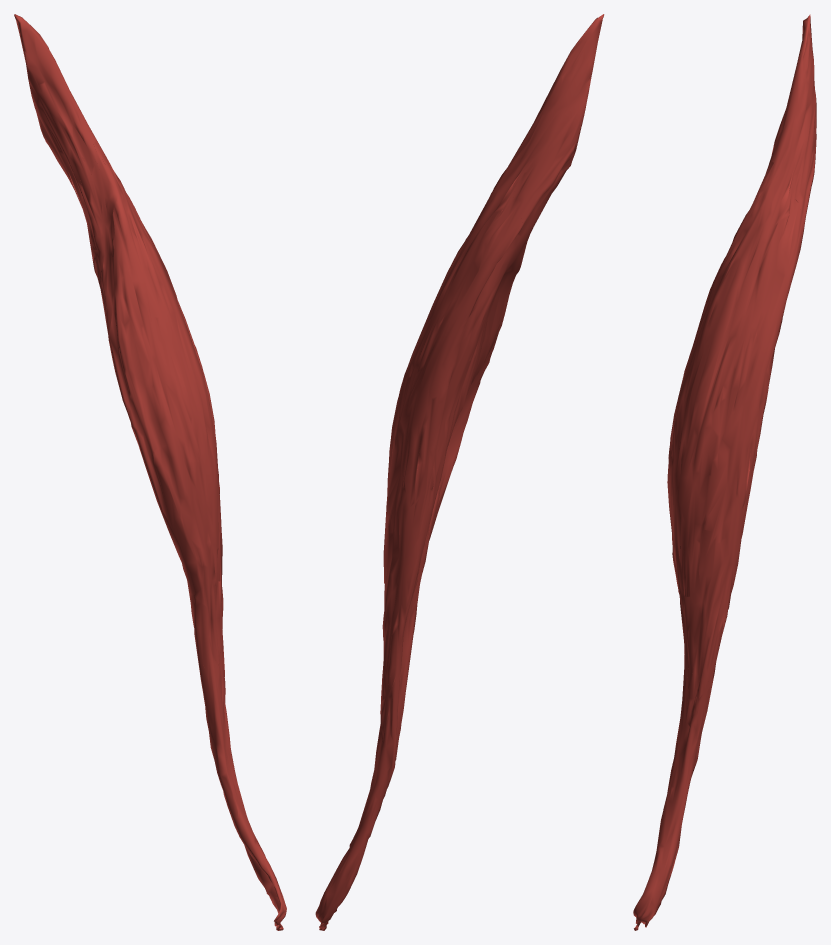
The model's file is musculos-brachioradialis-muscle-l.glb.
The picture shows the model from 3 angles, left to right: view 1: azimuth 30°, elevation 25°; view 2: azimuth 210°, elevation 25°; view 3: azimuth 270°, elevation 25°; orthographic projection. The views are drawn at different scales.
Visible parts, largest first — view 1: Brachioradialis muscle.l; view 2: Brachioradialis muscle.l; view 3: Brachioradialis muscle.l.
Boxes of the visible parts, x1,y1,x2,y2 form: Brachioradialis muscle.l: (14,14,286,930); Brachioradialis muscle.l: (315,14,604,930); Brachioradialis muscle.l: (633,14,816,930).
Bounding box in the file's own units: 0.0748 × 0.3491 × 0.0693.
